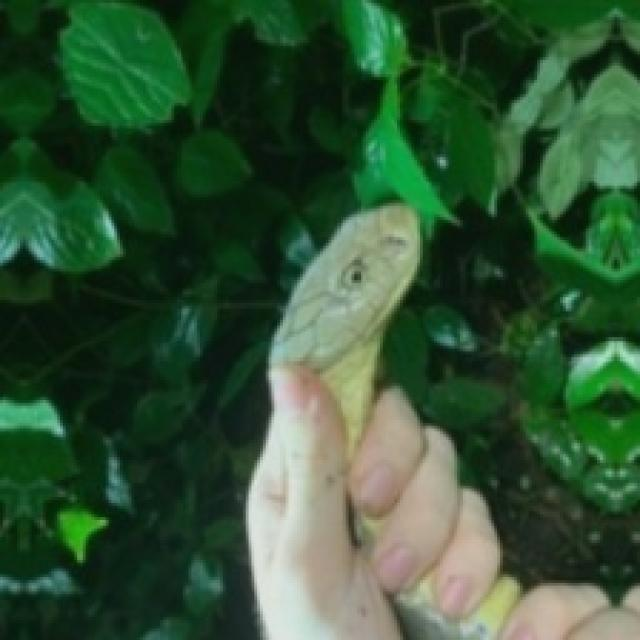king cobra: (246, 203, 517, 637)
